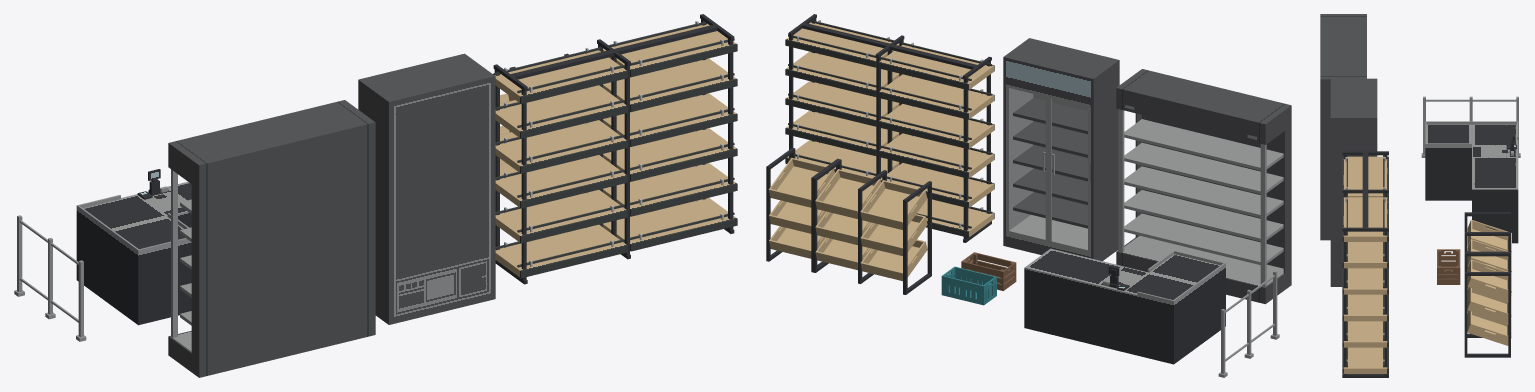
File: voxel_supermarket_asset_pack.glb
3 views of the same model, side by side, from view 1: azimuth 30°, elevation 25°; view 2: azimuth 150°, elevation 25°; view 3: azimuth 270°, elevation 25° (orthographic). The views are drawn at different scales.
Visible parts, largest first — view 1: Fridge$$(1)-Local_109, Fridge-Local_107, Fridge$$(3)-Local_117, Fridge$$(2)-Local_119, ShelfParts$$(1)-Local_9, ShelfParts-Local_7, ShelfParts$$(2)-Local_11, ShelfParts$$(5)-Local_17, ShelfParts$$(3)-Local_13, ShelfParts$$(9)-Local_25, ShelfParts$$(10)-Local_27, ShelfParts$$(8)-Local_23 (+6 smaller); view 2: Fridge$$(1)-Local_109, Fridge-Local_107, Fridge$$(2)-Local_119, Fridge$$(3)-Local_117, ShelfParts$$(2)-Local_11, ShelfParts$$(3)-Local_13, ShelfParts$$(5)-Local_17, ShelfParts$$(7)-Local_21, ShelfParts$$(8)-Local_23, ShelfParts$$(9)-Local_25, ShelfParts$$(4)-Local_15, ShelfParts$$(1)-Local_9 (+20 smaller); view 3: Fridge-Local_107, Fridge$$(2)-Local_119, Fridge$$(1)-Local_109, Fridge$$(3)-Local_117, ShelfParts$$(6)-Local_19, ShelfParts$$(4)-Local_15, ShelfParts$$(9)-Local_25, ShelfParts$$(7)-Local_21, ShelfParts$$(8)-Local_23, ShelfParts$$(10)-Local_27, ShelfParts$$(11)-Local_29, Shelf-3Parts2$$(2)-Local_81 (+17 smaller).
Boxes of the visible parts, x1,y1,x2,y2 form: Fridge$$(1)-Local_109: (168, 100, 375, 377); Fridge-Local_107: (358, 53, 495, 324); Fridge$$(3)-Local_117: (107, 213, 191, 325); Fridge$$(2)-Local_119: (76, 169, 191, 302); ShelfParts$$(1)-Local_9: (495, 190, 627, 243); ShelfParts-Local_7: (495, 224, 627, 278); ShelfParts$$(2)-Local_11: (495, 120, 627, 173); ShelfParts$$(5)-Local_17: (495, 85, 627, 138); ShelfParts$$(3)-Local_13: (495, 155, 627, 208); ShelfParts$$(9)-Local_25: (603, 128, 737, 181); ShelfParts$$(10)-Local_27: (603, 163, 737, 216); ShelfParts$$(8)-Local_23: (603, 93, 737, 146); Fridge$$(1)-Local_109: (1116, 69, 1291, 304); Fridge-Local_107: (1003, 38, 1119, 260); Fridge$$(2)-Local_119: (1024, 248, 1199, 364); Fridge$$(3)-Local_117: (1147, 250, 1225, 344); ShelfParts$$(2)-Local_11: (878, 104, 994, 149); ShelfParts$$(3)-Local_13: (878, 133, 994, 178); ShelfParts$$(5)-Local_17: (878, 74, 994, 119); ShelfParts$$(7)-Local_21: (785, 51, 899, 96); ShelfParts$$(8)-Local_23: (785, 81, 899, 126); ShelfParts$$(9)-Local_25: (785, 110, 899, 155); ShelfParts$$(4)-Local_15: (878, 42, 994, 90); ShelfParts$$(1)-Local_9: (880, 163, 994, 208); Fridge-Local_107: (1330, 78, 1377, 286); Fridge$$(2)-Local_119: (1472, 121, 1518, 243); Fridge$$(1)-Local_109: (1320, 14, 1366, 240); Fridge$$(3)-Local_117: (1425, 121, 1471, 200); ShelfParts$$(6)-Local_19: (1342, 194, 1388, 241); ShelfParts$$(4)-Local_15: (1342, 155, 1388, 197); ShelfParts$$(9)-Local_25: (1342, 294, 1388, 321); ShelfParts$$(7)-Local_21: (1342, 242, 1388, 268); ShelfParts$$(8)-Local_23: (1342, 268, 1388, 294); ShelfParts$$(10)-Local_27: (1342, 321, 1388, 347); ShelfParts$$(11)-Local_29: (1342, 347, 1388, 373); Shelf-3Parts2$$(2)-Local_81: (1467, 259, 1511, 299).
Bounding box in the file's own units: 7.31 × 2.57 × 2.76.
Materials: 56 (56 with a texture image).
